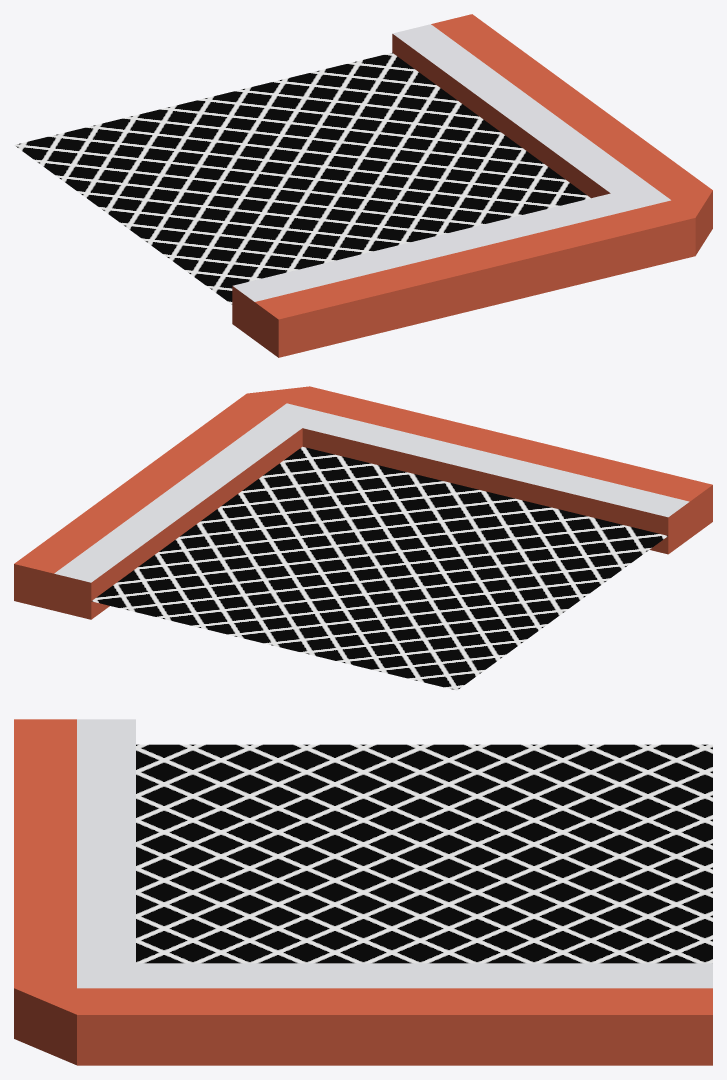
File: metalTileConnectCorner.fbx
3 views of the same model, one above another, from view 1: azimuth 30°, elevation 25°; view 2: azimuth 150°, elevation 25°; view 3: azimuth 270°, elevation 25° (orthographic). The views are drawn at different scales.
Parts seen in each view (by area): view 1: metalTileConnectCorner; view 2: metalTileConnectCorner; view 3: metalTileConnectCorner.
Boxes of the visible parts, bbox=[...] form: metalTileConnectCorner: bbox=[14, 14, 712, 357]; metalTileConnectCorner: bbox=[14, 386, 712, 690]; metalTileConnectCorner: bbox=[14, 719, 712, 1065].
Bounding box in the file's own units: 10 × 0.8 × 10.
3 materials, 1 textured.
